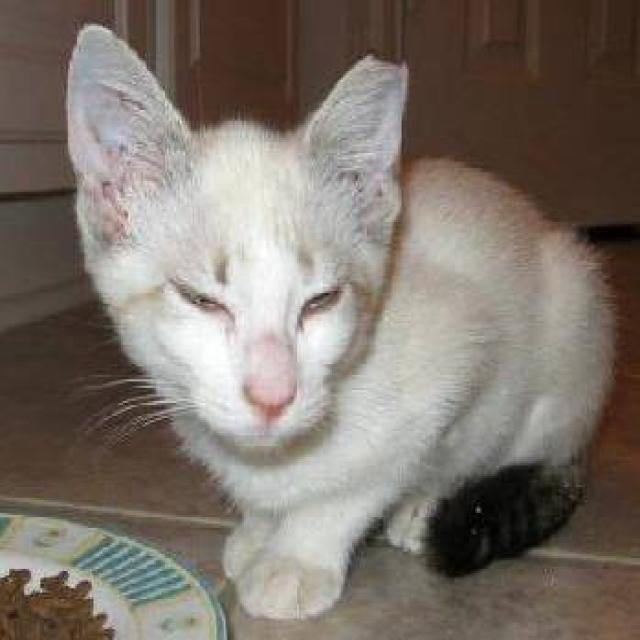cat: (62, 22, 618, 620)
